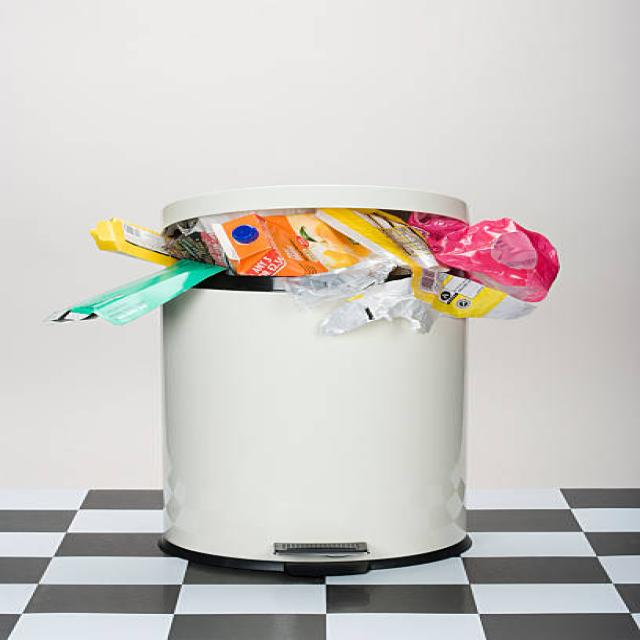trash: (135, 227, 560, 292)
